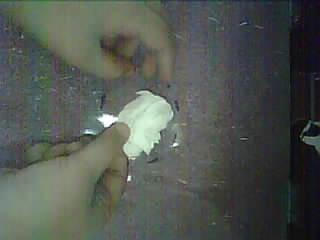paper: (119, 90, 174, 158)
